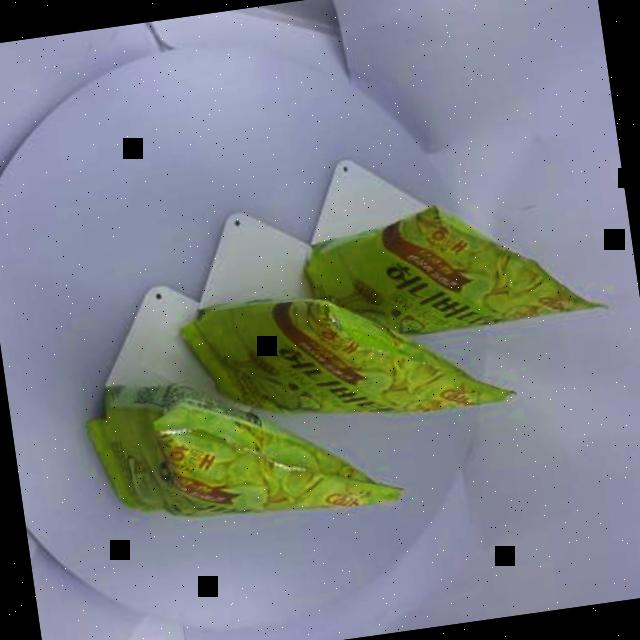snack_bag: (56, 167, 640, 564)
